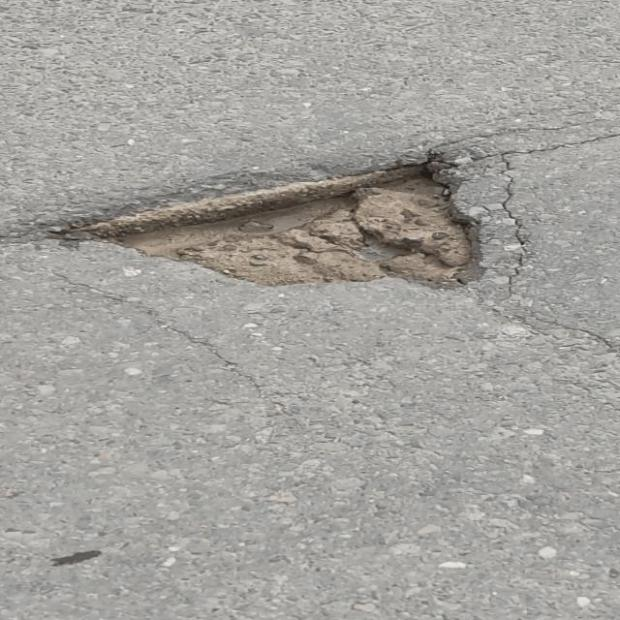lubang: (50, 152, 496, 286)
